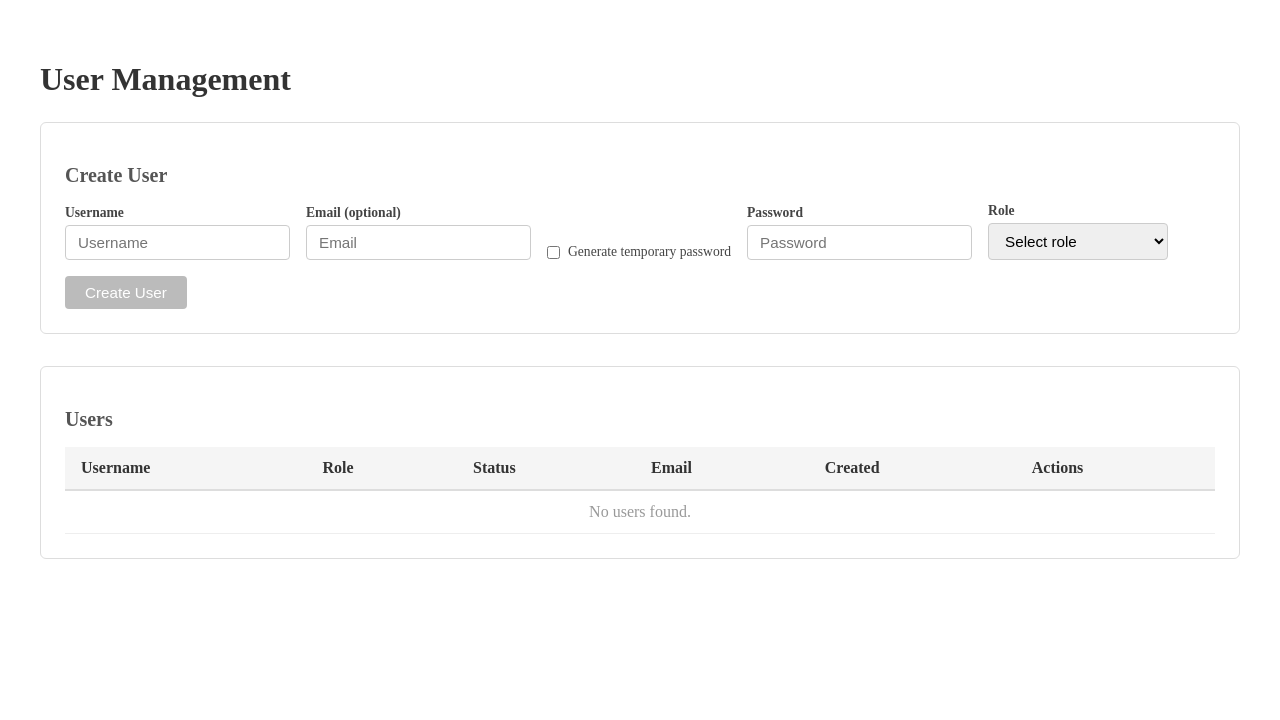
Test case: UserManagementView › does not display temp password when email_sent is true
This screenshot has width=1280, height=720.
Type "carol" into the field with id "create-username" at {"x": 178, "y": 242}, box [65,225,290,260]
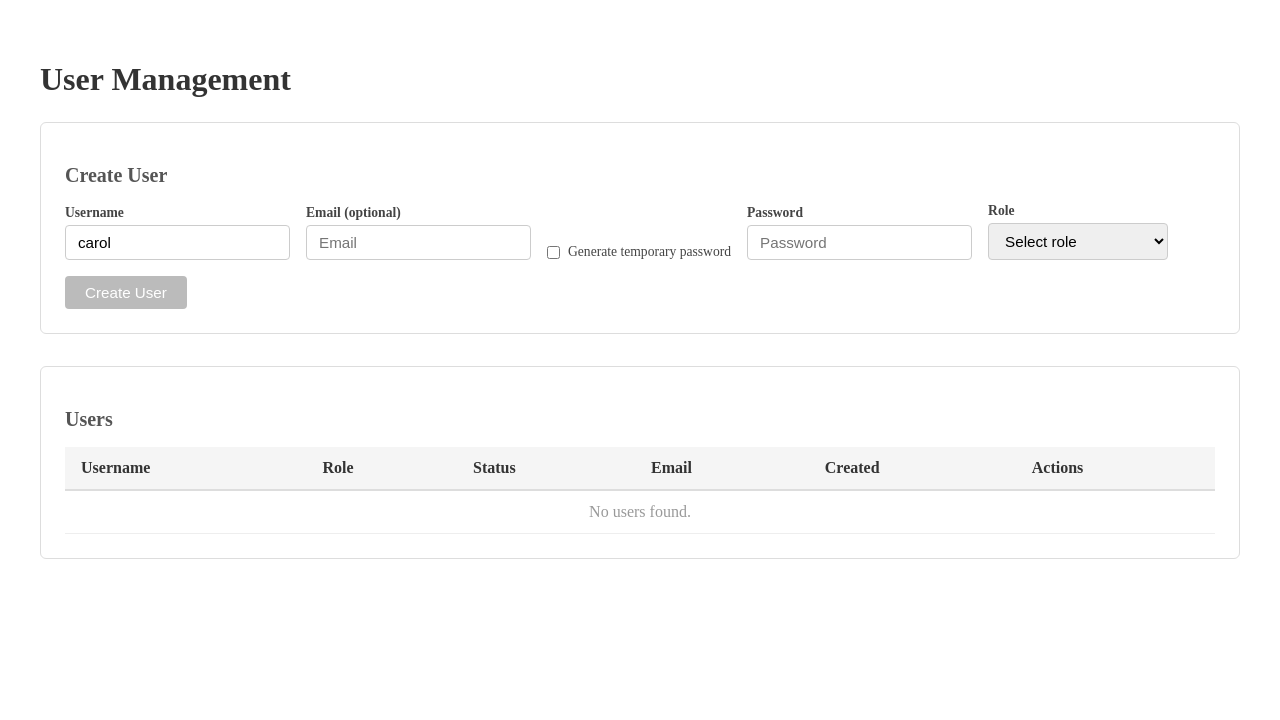
Type "carol@example.com" into the field with id "create-email" at {"x": 418, "y": 242}, box [306,225,531,260]
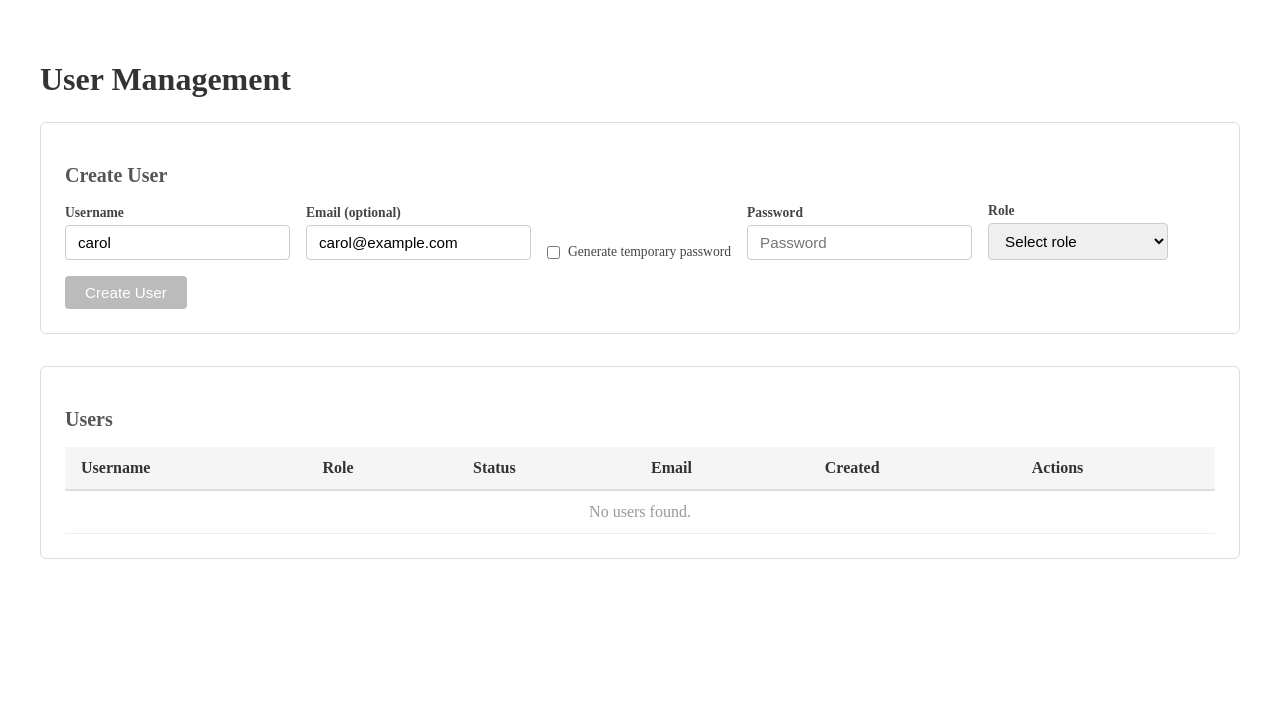
Click the checkbox with id "generate-password" at {"x": 554, "y": 252}, box [547,246,560,258]
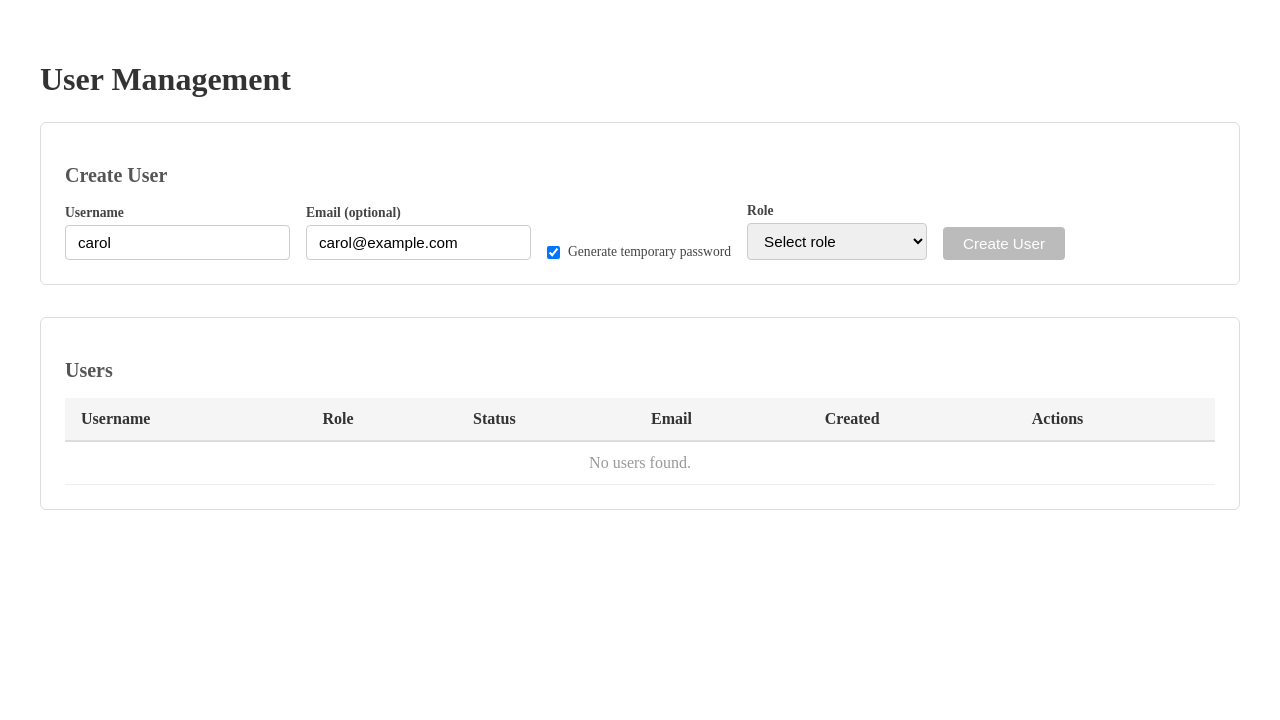
Select "student" in the dropdown with id "create-role" at {"x": 837, "y": 242}, box [747,223,927,260]
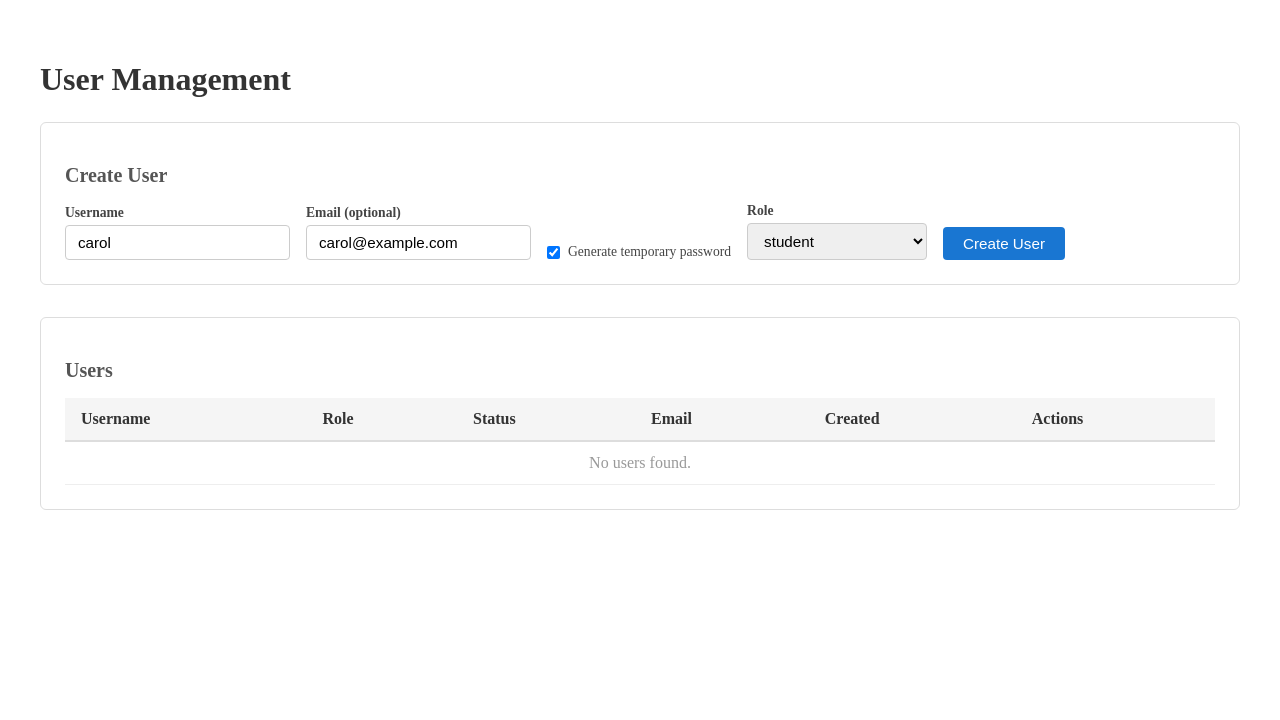
Submit the form with class "create-form", box [65,203,1215,260]
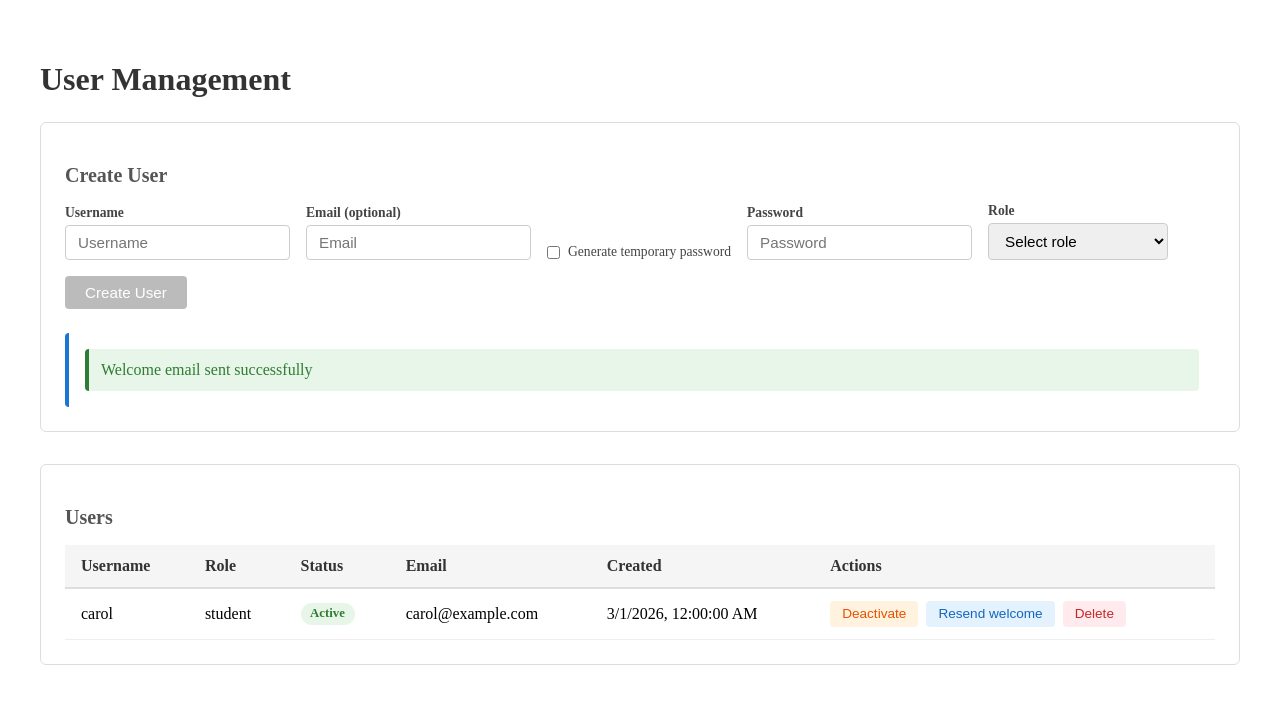
Now the text "Welcome email sent successfully" is shown, box [85,349,1199,391]
Now the text with class "email-sent-message" shows "Welcome email sent", box [101,361,312,378]
